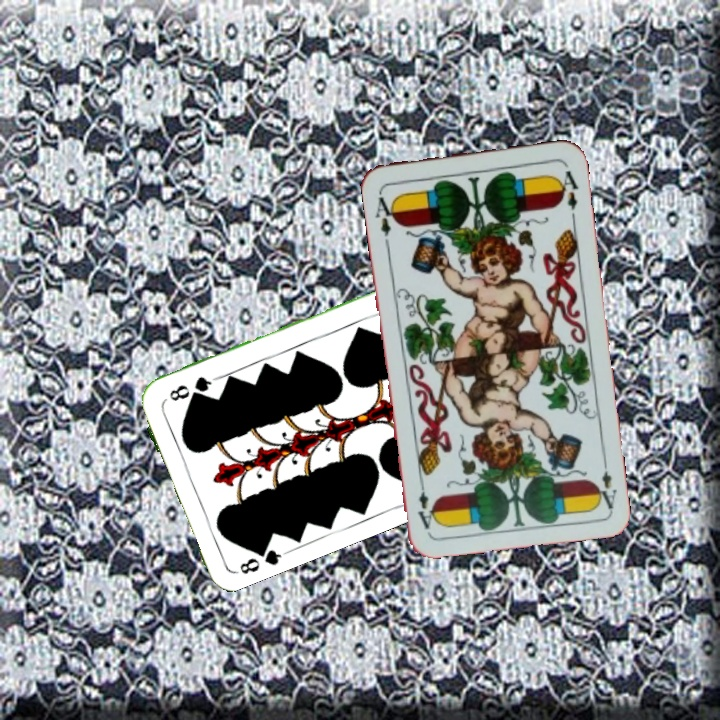EA: (591, 452, 620, 511), (371, 187, 399, 246)
G8: (231, 540, 288, 577)
